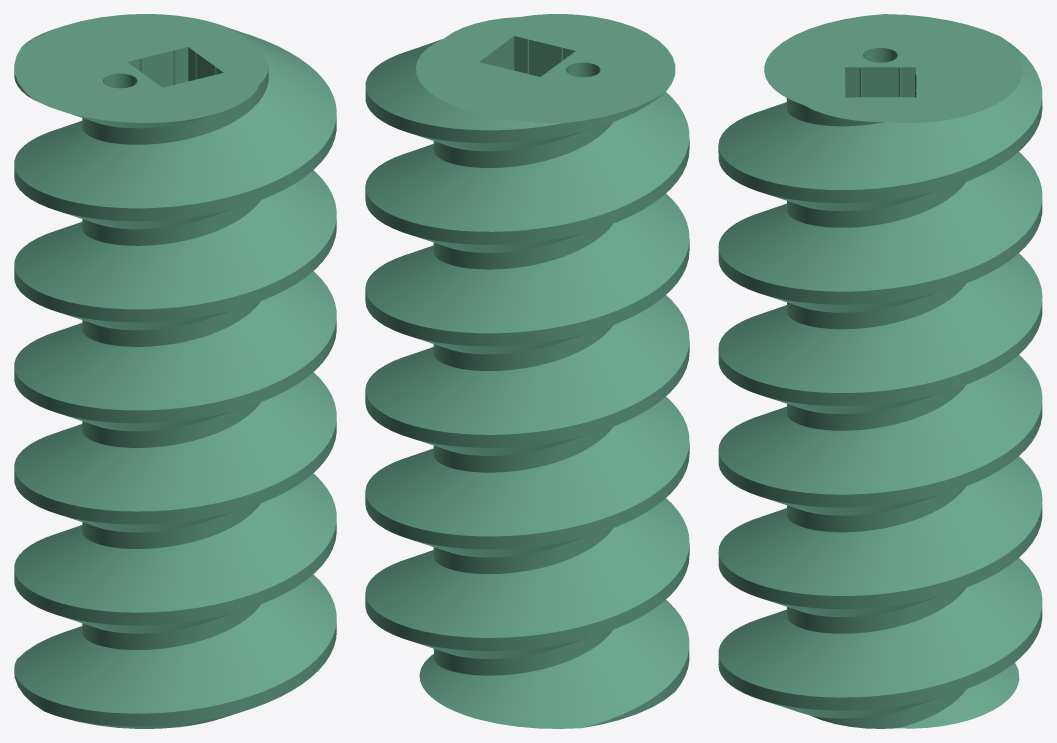
Rendered from worm3.fbx.
3 renders of one model, left to right at view 1: azimuth 30°, elevation 25°; view 2: azimuth 150°, elevation 25°; view 3: azimuth 270°, elevation 25°, orthographic.
Parts seen in each view (by area): view 1: Lead Screw; view 2: Lead Screw; view 3: Lead Screw.
Part boxes in pixels (x1=…): Lead Screw: x1=14, y1=14, x2=336, y2=728; Lead Screw: x1=365, y1=14, x2=689, y2=728; Lead Screw: x1=718, y1=14, x2=1042, y2=728.
Size of the model in its own units: 57.87 by 124 by 57.87.
